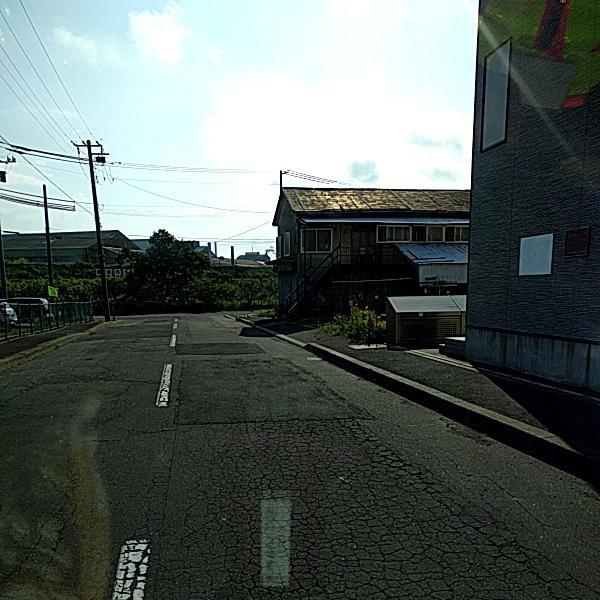D20: (163, 418, 550, 599), (15, 486, 156, 599)
